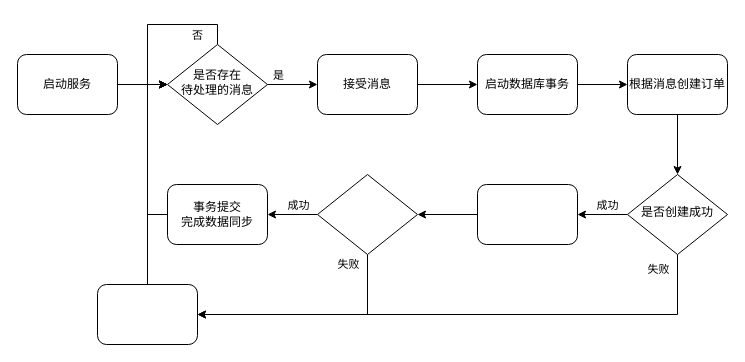
The diagram is 745 pixels wide and 362 high, and some of its shapes have lost their labels. The centre of each missing label's shape, as x and y in pixels:
事务回滚 报错: [147,314]
减少对应 商品的库存数量: [527,214]
是否修改成功: [367,214]
